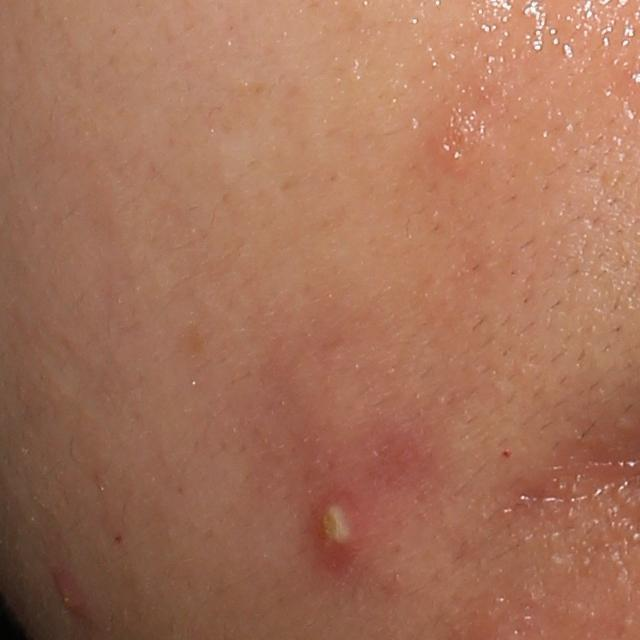papule: (54, 573, 91, 618)
pustule: (310, 492, 359, 562)
